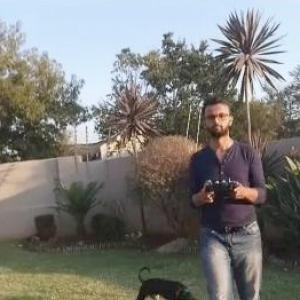follow: (188, 91, 271, 299)
null: (128, 261, 206, 299)
